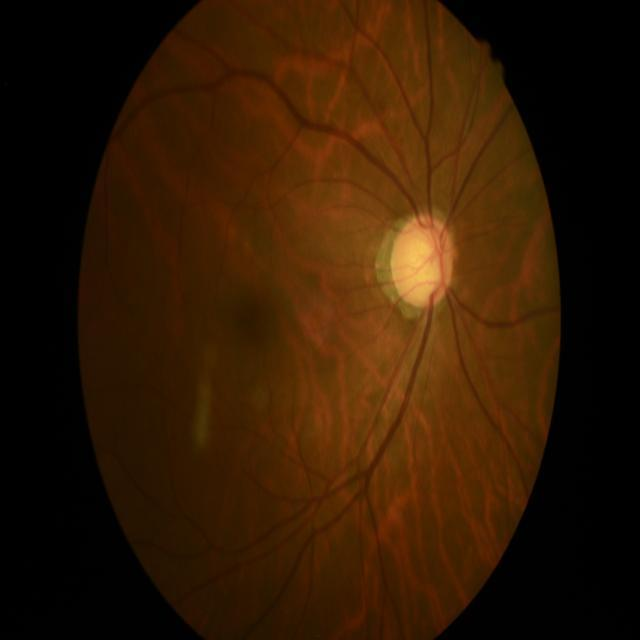cup: (404, 228, 444, 295)
disk: (390, 215, 456, 308)
